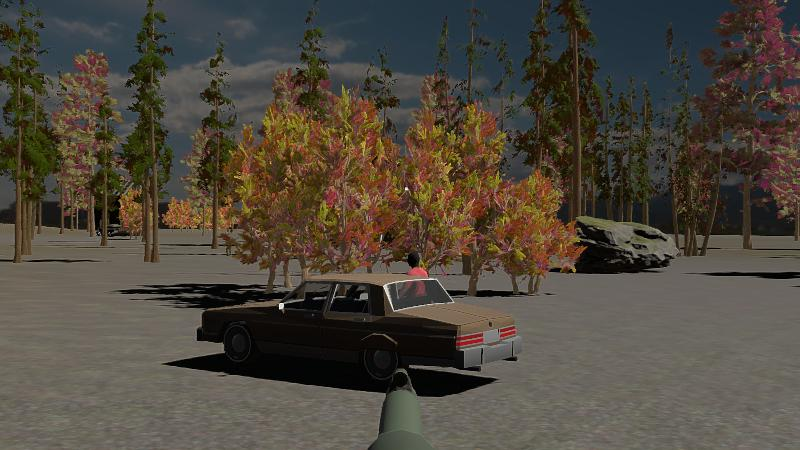Human: (403, 250, 431, 293)
car: (193, 272, 524, 382)
